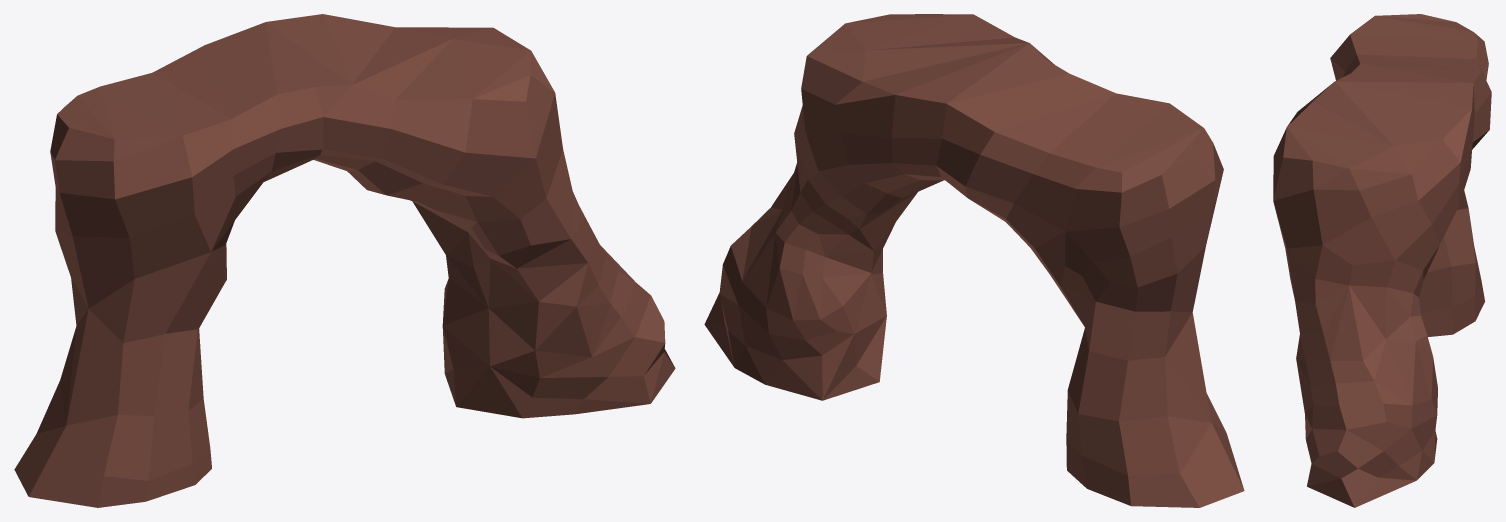
Rendered from Pillar-C09.fbx.
The picture shows the model from 3 angles, left to right: view 1: azimuth 30°, elevation 25°; view 2: azimuth 150°, elevation 25°; view 3: azimuth 270°, elevation 25°; orthographic projection. The views are drawn at different scales.
Parts seen in each view (by area): view 1: Pillar-C09; view 2: Pillar-C09; view 3: Pillar-C09.
Part boxes in pixels (bbox=[...]): Pillar-C09: bbox=[14, 14, 675, 507]; Pillar-C09: bbox=[704, 14, 1244, 507]; Pillar-C09: bbox=[1273, 14, 1491, 507].
Size of the model in its own units: 487 by 190 by 287.
